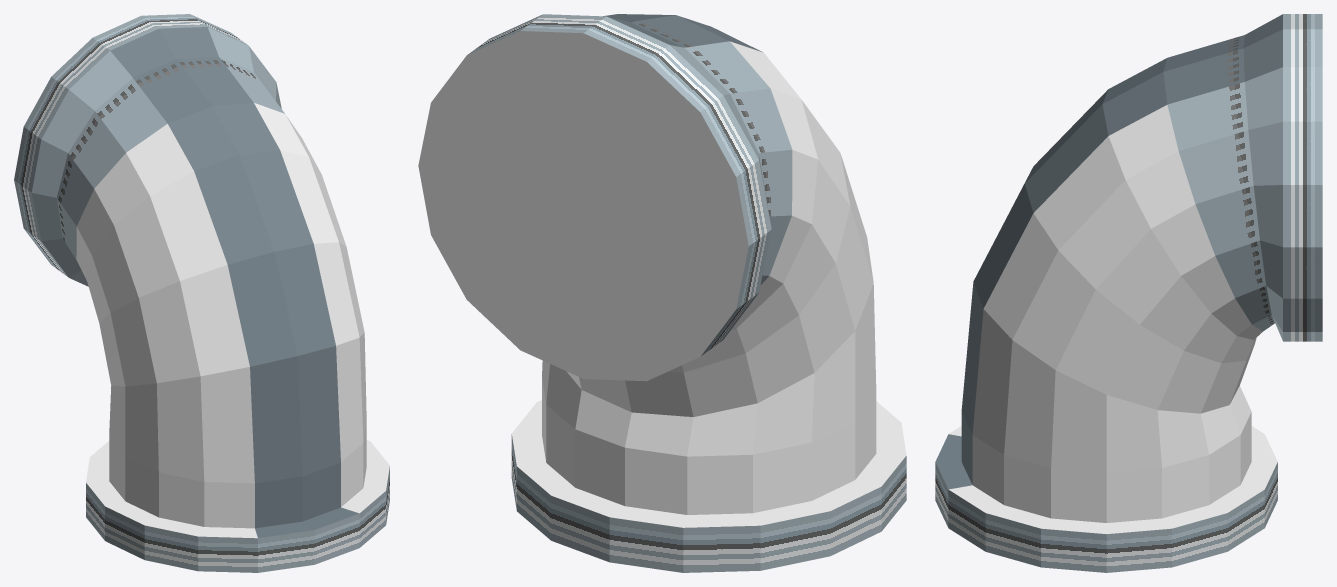
Rendered from pipe.glb.
3 views of the same model, side by side, from view 1: azimuth 30°, elevation 25°; view 2: azimuth 150°, elevation 25°; view 3: azimuth 270°, elevation 25° (orthographic). The views are drawn at different scales.
Parts seen in each view (by area): view 1: Cylinder; view 2: Cylinder; view 3: Cylinder.
Boxes of the visible parts, bbox=[...] form: Cylinder: bbox=[14, 14, 389, 572]; Cylinder: bbox=[418, 14, 906, 572]; Cylinder: bbox=[935, 14, 1322, 572].
Size of the model in its own units: 1.6 by 2.43 by 1.81.
4 materials, 2 textured.
